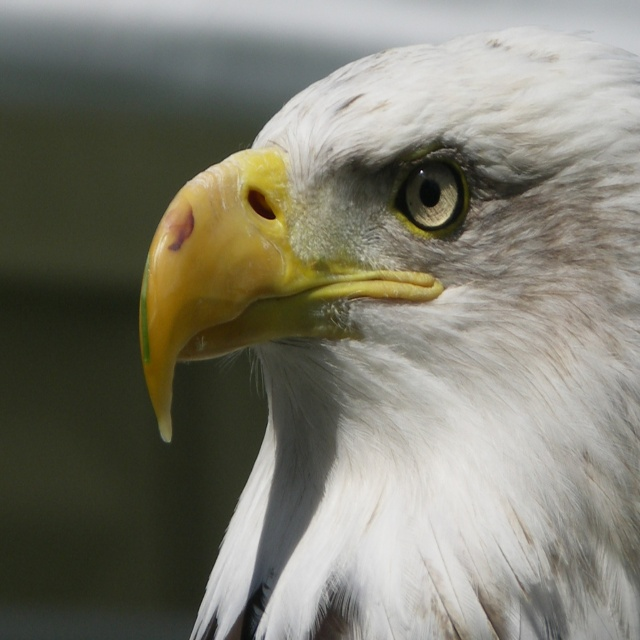Eagle: (137, 22, 640, 639)
